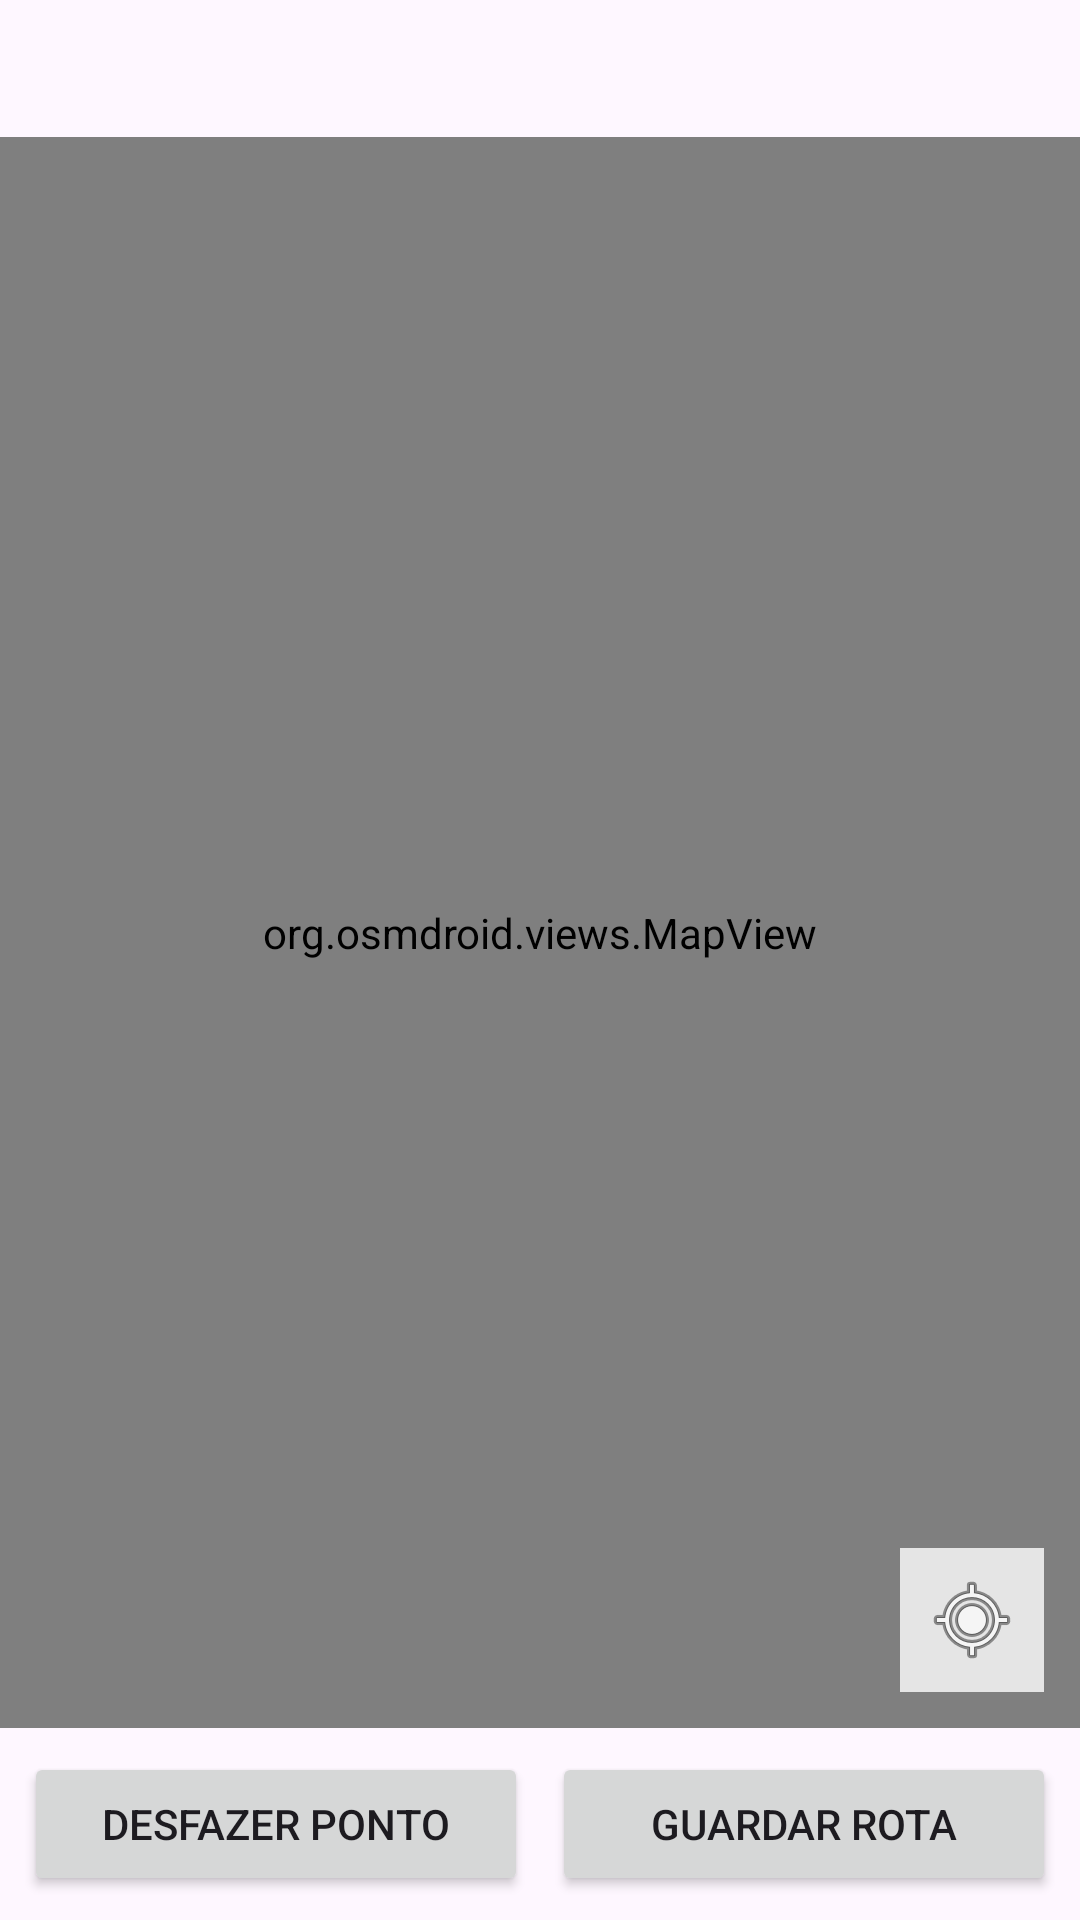

Locate icon controls on the screen. Image size 1080*1920, boxes as [x1,y1,x2,y2].
Centrar o mapa em mim: [900,1548,1044,1692]
